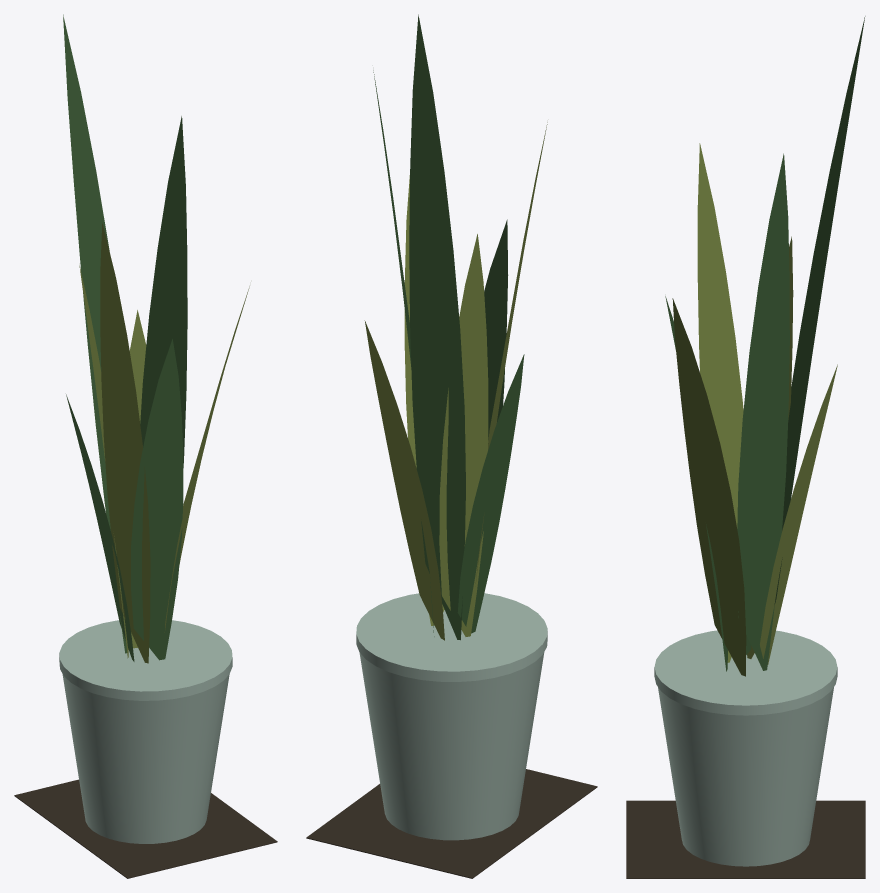
The picture shows the model from 3 angles, left to right: view 1: azimuth 30°, elevation 25°; view 2: azimuth 150°, elevation 25°; view 3: azimuth 270°, elevation 25°; orthographic projection. The views are drawn at different scales.
Visible parts, largest first — view 1: Pot, Leaves, LightLeaves, Footprint; view 2: Pot, Leaves, LightLeaves, Footprint; view 3: Pot, LightLeaves, Leaves, Footprint.
Part boxes in pixels (x1,y1,x2,y2): Pot: [59, 620, 232, 843]; Leaves: [63, 14, 187, 661]; LightLeaves: [79, 223, 249, 663]; Footprint: [14, 779, 277, 878]; Pot: [356, 593, 547, 840]; Leaves: [373, 14, 524, 640]; LightLeaves: [364, 122, 547, 640]; Footprint: [306, 769, 597, 878]; Pot: [654, 630, 837, 866]; LightLeaves: [672, 143, 837, 676]; Leaves: [665, 16, 865, 671]; Footprint: [626, 800, 865, 878].
Bounding box in the file's own units: 0.2 × 0.98 × 0.2613.
